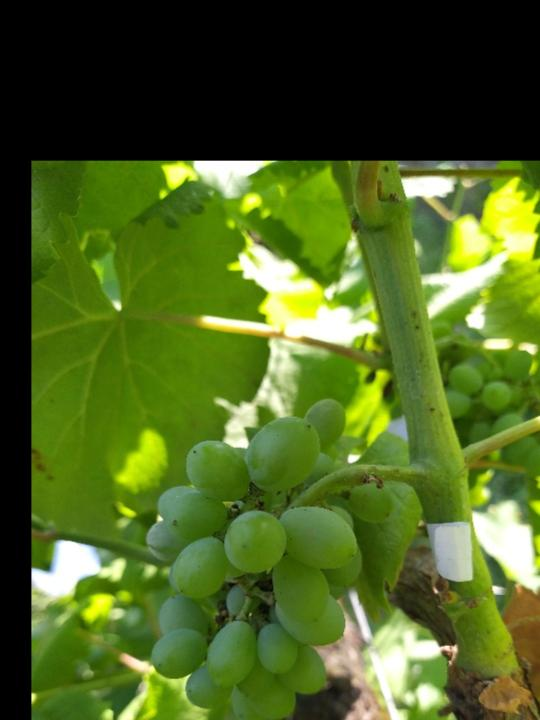grape: (141, 398, 398, 720)
